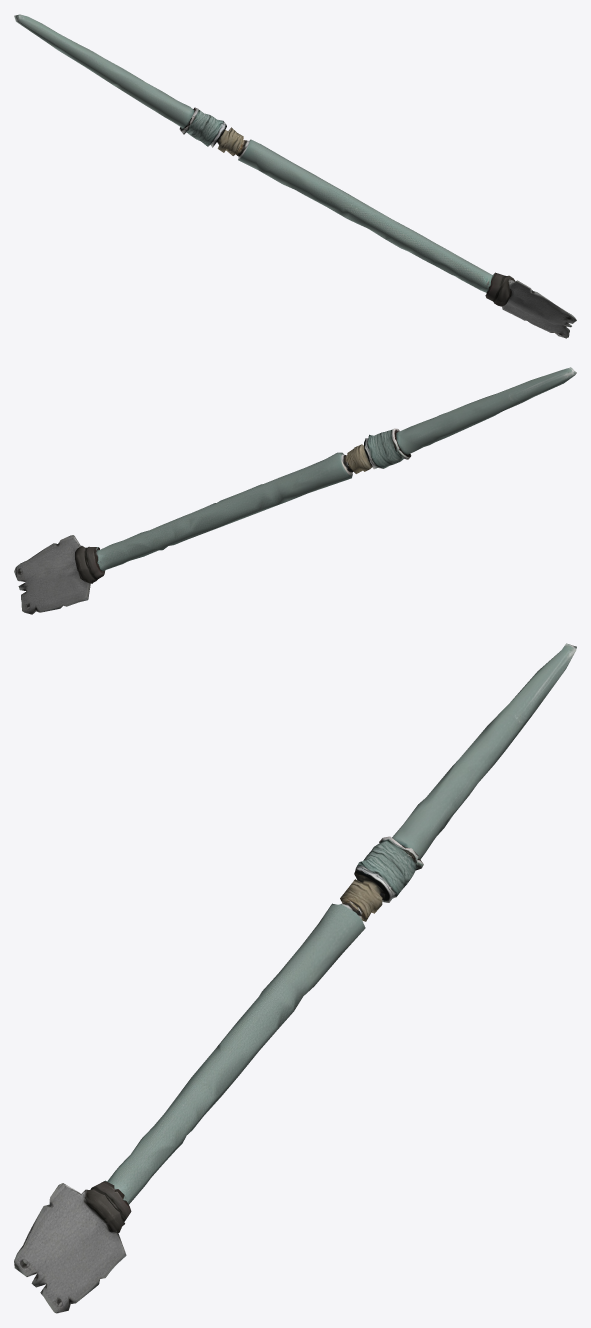
The model's file is weapon_javelin_tertiary_1500_raw.glb.
The picture shows the model from 3 angles, top to bottom: view 1: azimuth 30°, elevation 25°; view 2: azimuth 210°, elevation 25°; view 3: azimuth 270°, elevation 25°; orthographic projection. The views are drawn at different scales.
Visible parts, largest first — view 1: tripo_node_29d1bd85-93d4-47ce-a4af-9af3e04474d4; view 2: tripo_node_29d1bd85-93d4-47ce-a4af-9af3e04474d4; view 3: tripo_node_29d1bd85-93d4-47ce-a4af-9af3e04474d4.
Boxes of the visible parts, x1=… form: tripo_node_29d1bd85-93d4-47ce-a4af-9af3e04474d4: x1=14, y1=14, x2=576, y2=338; tripo_node_29d1bd85-93d4-47ce-a4af-9af3e04474d4: x1=14, y1=367, x2=576, y2=614; tripo_node_29d1bd85-93d4-47ce-a4af-9af3e04474d4: x1=14, y1=643, x2=576, y2=1313.
Size of the model in its own units: 0.9793 by 0.7132 by 0.8864.
Materials: 1 (1 with a texture image).
